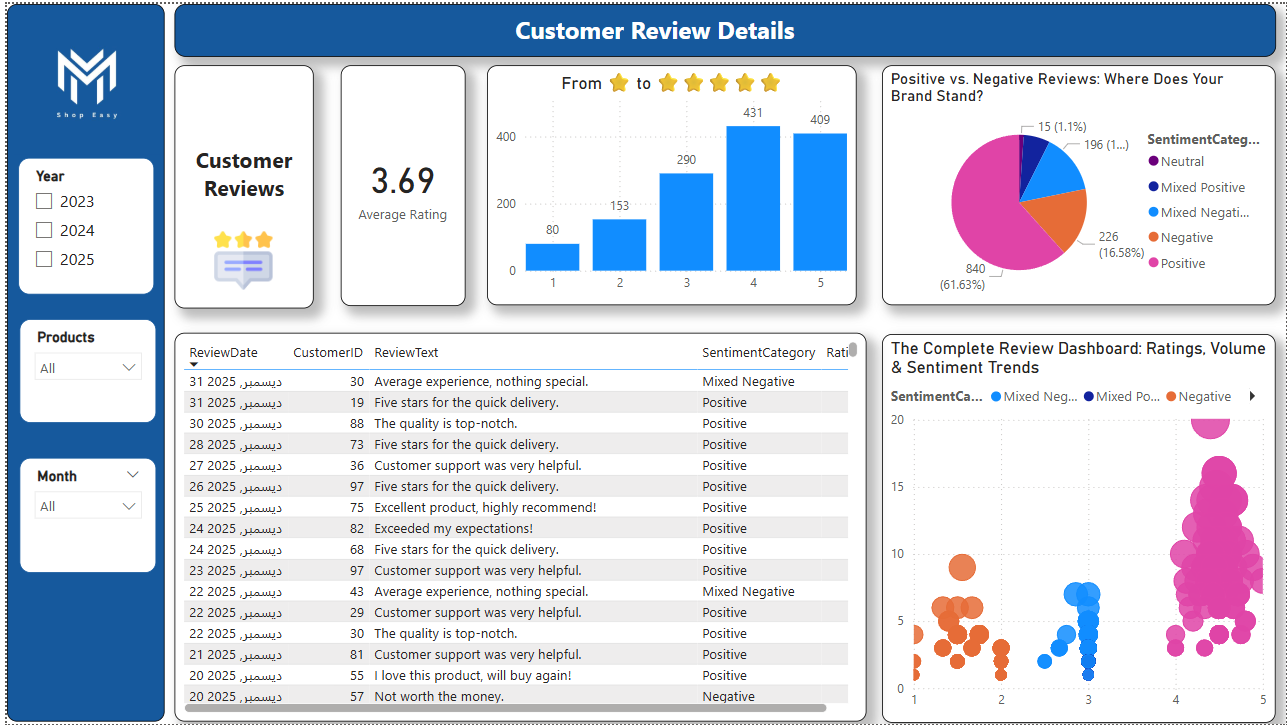

What the dashboard file says about the page in this screenshot:
{"tool":"powerbi","page":{"name":"Customer Review Details ","canvas":[1280,720],"ordinal":3},"visuals":[{"type":"textbox","box":[167.5,0,1101.8,52.6],"z":0},{"type":"card","fields":{"Values":["Calculations.Average Rating"]},"box":[333.8,61.1,124.7,240.9],"z":1000},{"type":"textbox","box":[167.5,61.1,139.4,243.3],"z":2000},{"type":"clusteredColumnChart","title":"From ⭐ to ⭐⭐⭐⭐⭐","fields":{"Y":["Calculations.Number of Reviews"],"Category":["fact_customer_reviews_with_sentiment.Rating"]},"box":[480.6,61.1,369.3,239.7],"z":3000},{"type":"pieChart","title":"Positive vs. Negative Reviews: Where Does Your Brand Stand?","fields":{"Category":["fact_customer_reviews_with_sentiment.SentimentCategory"],"Y":["Calculations.Number of Reviews"]},"box":[875.5,61.1,393.8,239.7],"z":4000},{"type":"scatterChart","title":"The Complete Review Dashboard: Ratings, Volume & Sentiment Trends","fields":{"Series":["fact_customer_reviews_with_sentiment.SentimentCategory"],"Size":["Calculations.Number of Reviews"],"Y":["Calculations.Number of Reviews"],"Category":["dim_customers.CustomerID"],"X":["Calculations.Average Rating"]},"box":[875.5,330.2,393.8,388.6],"z":5000},{"type":"textbox","box":[0,0,157.7,717.8],"z":6000},{"type":"tableEx","fields":{"Values":["fact_customer_reviews_with_sentiment.ReviewDate","fact_customer_reviews_with_sentiment.CustomerID","fact_customer_reviews_with_sentiment.ReviewText","fact_customer_reviews_with_sentiment.SentimentCategory","fact_customer_reviews_with_sentiment.Rating"]},"box":[167.8,329.2,692.1,388.9],"z":7000},{"type":"slicer","fields":{"Values":["Calendar.Year"]},"box":[11,154.1,135.7,137],"z":8000},{"type":"slicer","fields":{"Values":["dim_products.ProductName"]},"box":[12.2,315.5,137,103.9],"z":9000},{"type":"slicer","fields":{"Values":["Calendar.MonthNameShort"]},"box":[12.2,453.7,137,114.9],"z":10000},{"type":"image","box":[0,0,160.2,155.3],"z":11000},{"type":"image","box":[200.5,222.6,73.4,68.5],"z":12000}]}

Visuals, with their boxes in screenshot pixels (x1, y1, x2, y2), scaled from the page's 1280x720 canvas onto the 1287x727 screenshot:
textbox: [left=168, top=0, right=1276, bottom=53]
card - Calculations.Average Rating: [left=336, top=62, right=461, bottom=305]
textbox: [left=168, top=62, right=309, bottom=307]
"From ⭐ to ⭐⭐⭐⭐⭐" clusteredColumnChart: [left=483, top=62, right=855, bottom=304]
"Positive vs. Negative Reviews: Where Does Your Brand Stand?" pieChart: [left=880, top=62, right=1276, bottom=304]
"The Complete Review Dashboard: Ratings, Volume & Sentiment Trends" scatterChart: [left=880, top=333, right=1276, bottom=726]
textbox: [left=0, top=0, right=159, bottom=725]
tableEx - fact_customer_reviews_with_sentiment.ReviewDate x fact_customer_reviews_with_sentiment.CustomerID: [left=169, top=332, right=865, bottom=725]
slicer - Calendar.Year: [left=11, top=156, right=148, bottom=294]
slicer - dim_products.ProductName: [left=12, top=319, right=150, bottom=423]
slicer - Calendar.MonthNameShort: [left=12, top=458, right=150, bottom=574]
image: [left=0, top=0, right=161, bottom=157]
image: [left=202, top=225, right=275, bottom=294]
